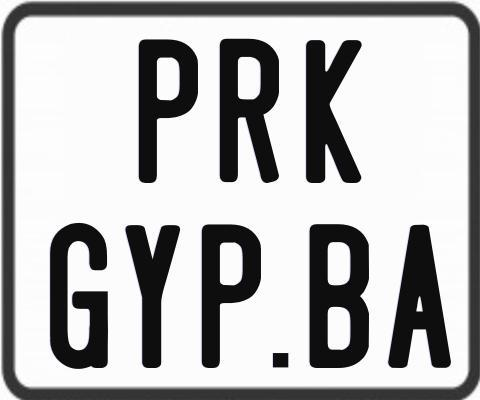A: (386, 225, 451, 369)
B: (307, 221, 367, 369)
G: (50, 223, 112, 374)
K: (304, 40, 365, 186)
P: (136, 39, 199, 186), (199, 221, 260, 369)
R: (217, 37, 279, 181)
Y: (122, 224, 180, 367)
